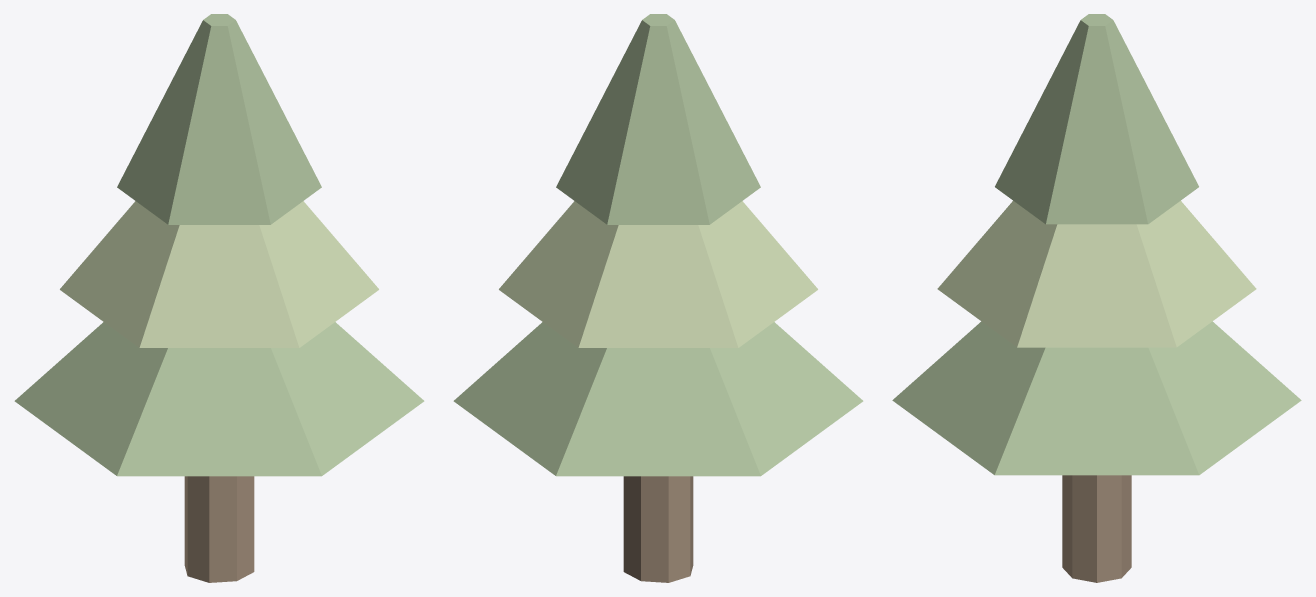
The model's file is tree-wooden.glb.
The picture shows the model from 3 angles, left to right: view 1: azimuth 30°, elevation 25°; view 2: azimuth 150°, elevation 25°; view 3: azimuth 270°, elevation 25°; orthographic projection.
Parts seen in each view (by area): view 1: Cone, Cone.001, Cone.002, Trunk.002; view 2: Cone, Cone.001, Cone.002, Trunk.002; view 3: Cone, Cone.001, Cone.002, Trunk.002.
Part boxes in pixels (bbox=[...]): Cone: bbox=[14, 322, 424, 476]; Cone.001: bbox=[60, 201, 378, 347]; Cone.002: bbox=[117, 14, 321, 224]; Trunk.002: bbox=[184, 476, 254, 582]; Cone: bbox=[453, 322, 863, 476]; Cone.001: bbox=[499, 201, 817, 347]; Cone.002: bbox=[556, 14, 760, 224]; Trunk.002: bbox=[623, 476, 693, 582]; Cone: bbox=[892, 321, 1301, 475]; Cone.001: bbox=[937, 200, 1256, 347]; Cone.002: bbox=[995, 14, 1198, 224]; Trunk.002: bbox=[1062, 475, 1131, 582].
Size of the model in its own units: 1.73 by 2.95 by 2.
